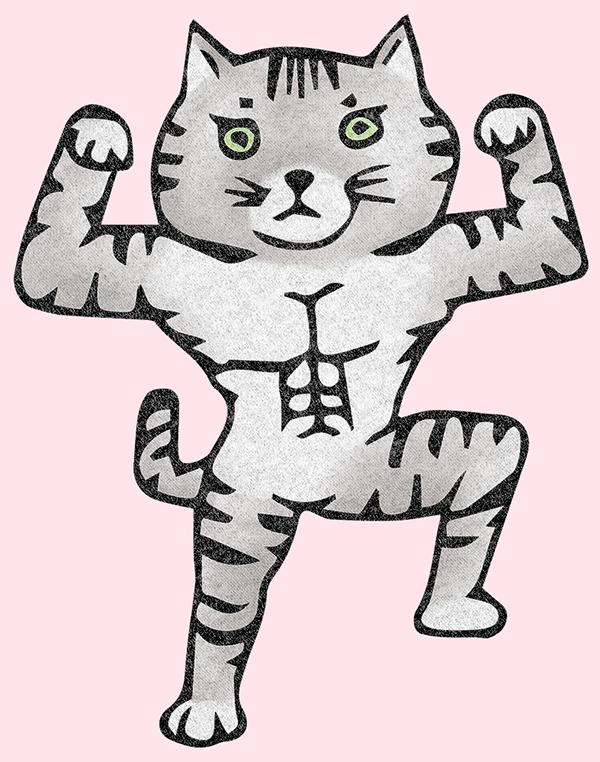cat: (1, 2, 600, 759)
